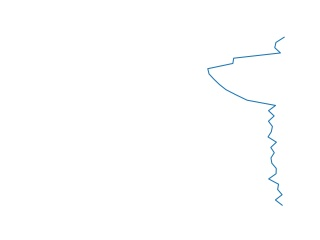distalBar: (201, 36, 291, 207)
